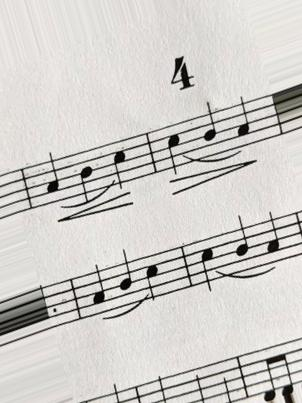note: (82, 263, 109, 318), (39, 150, 65, 202), (263, 210, 286, 266), (231, 214, 253, 270), (196, 242, 220, 293), (162, 126, 186, 174), (199, 99, 220, 153), (108, 144, 132, 190), (117, 247, 135, 305), (231, 97, 250, 147), (143, 256, 162, 304), (76, 153, 95, 198)
